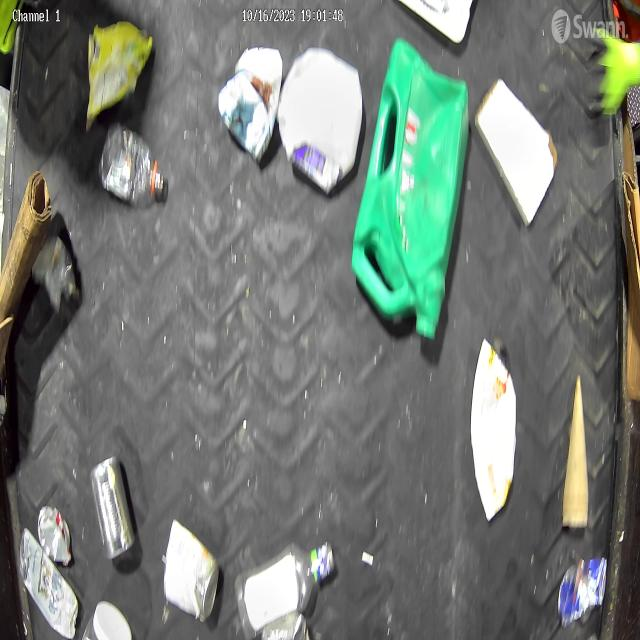can: (163, 520, 220, 620), (92, 454, 135, 562), (557, 554, 607, 622), (38, 508, 72, 564)
milk_jug: (279, 43, 364, 195)
non_white_jug: (352, 38, 472, 342)
plastic_bottle: (233, 539, 333, 640), (99, 119, 166, 208)
